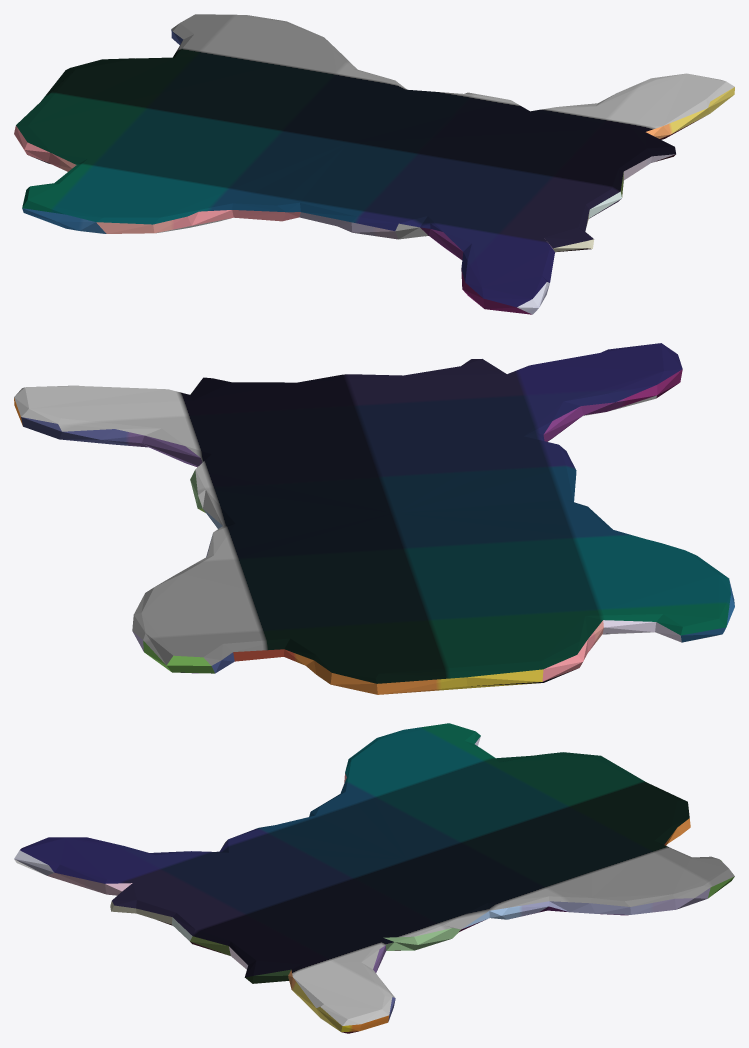
Rendered from carpet.fbx.
The picture shows the model from 3 angles, top to bottom: view 1: azimuth 30°, elevation 25°; view 2: azimuth 150°, elevation 25°; view 3: azimuth 270°, elevation 25°; orthographic projection. The views are drawn at different scales.
Visible parts, largest first — view 1: carpet; view 2: carpet; view 3: carpet.
Part boxes in pixels (x1,y1,x2,y2): carpet: (14,14,734,314); carpet: (14,343,734,694); carpet: (14,723,734,1033).
Bounding box in the file's own units: 3.52 × 0.082 × 3.55.
